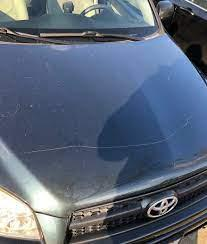bonnet-dent: (1, 43, 206, 211)
